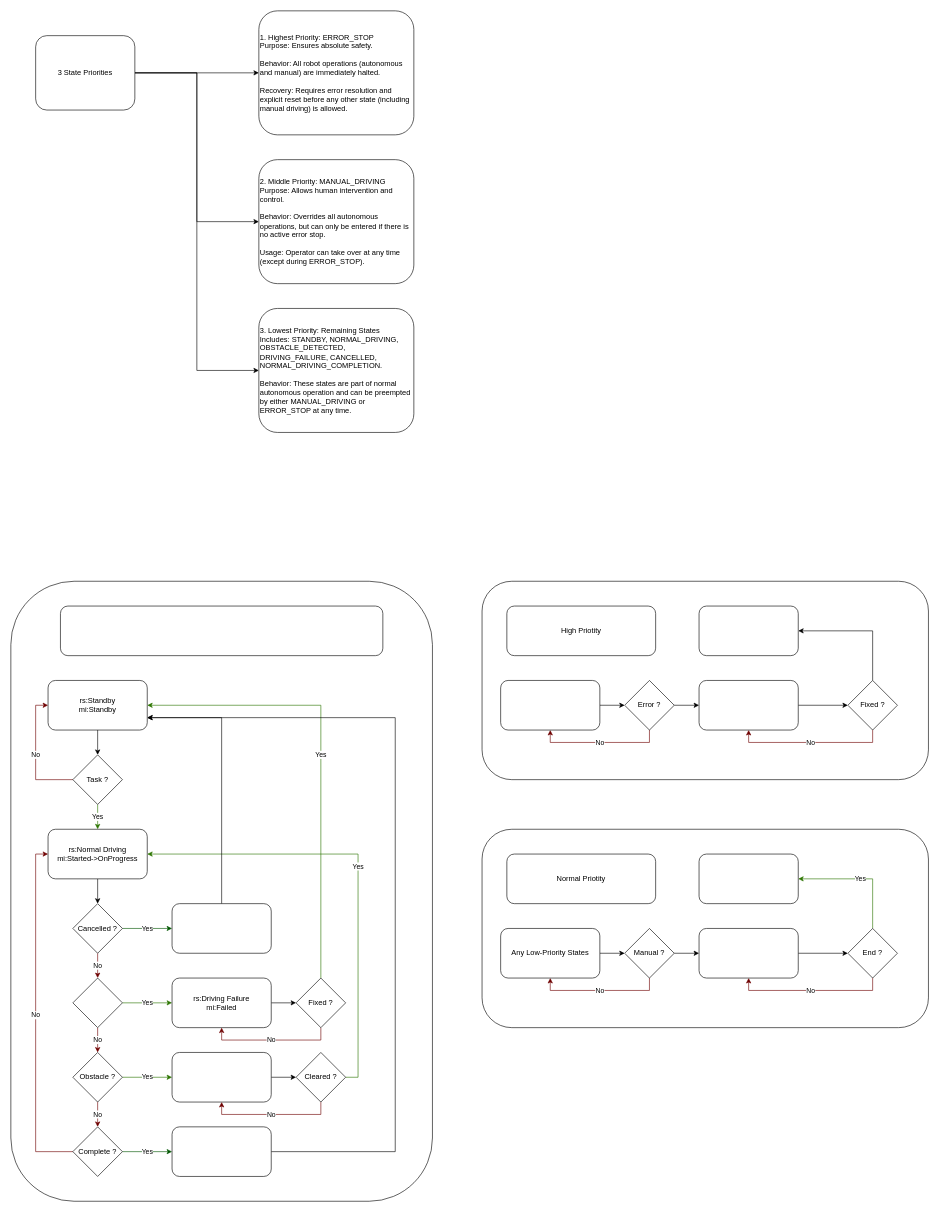
This 939x1212 diagram has some shape labels left out. The shapes that lost their labels are listed below. From the top down, each one's centre as x and y in pixels, then its label:
At point 221,630: "Low Priority".
At point 748,630: "Standby Mode".
At point 550,705: "Any Under-High-Priority States".
At point 748,705: "rs:Error Stop mi:".
At point 748,878: "Resume previouse mode".
At point 221,928: "rs:Cancelled mi:Cancelled".
At point 748,953: "Manual Driving".
At point 97,1002: "Failure ?".
At point 221,1077: "rs:Obstacle Detected mi:OnProgress".
At point 221,1151: "rs:Normal Driving Completion mi:DestArrived->End".
